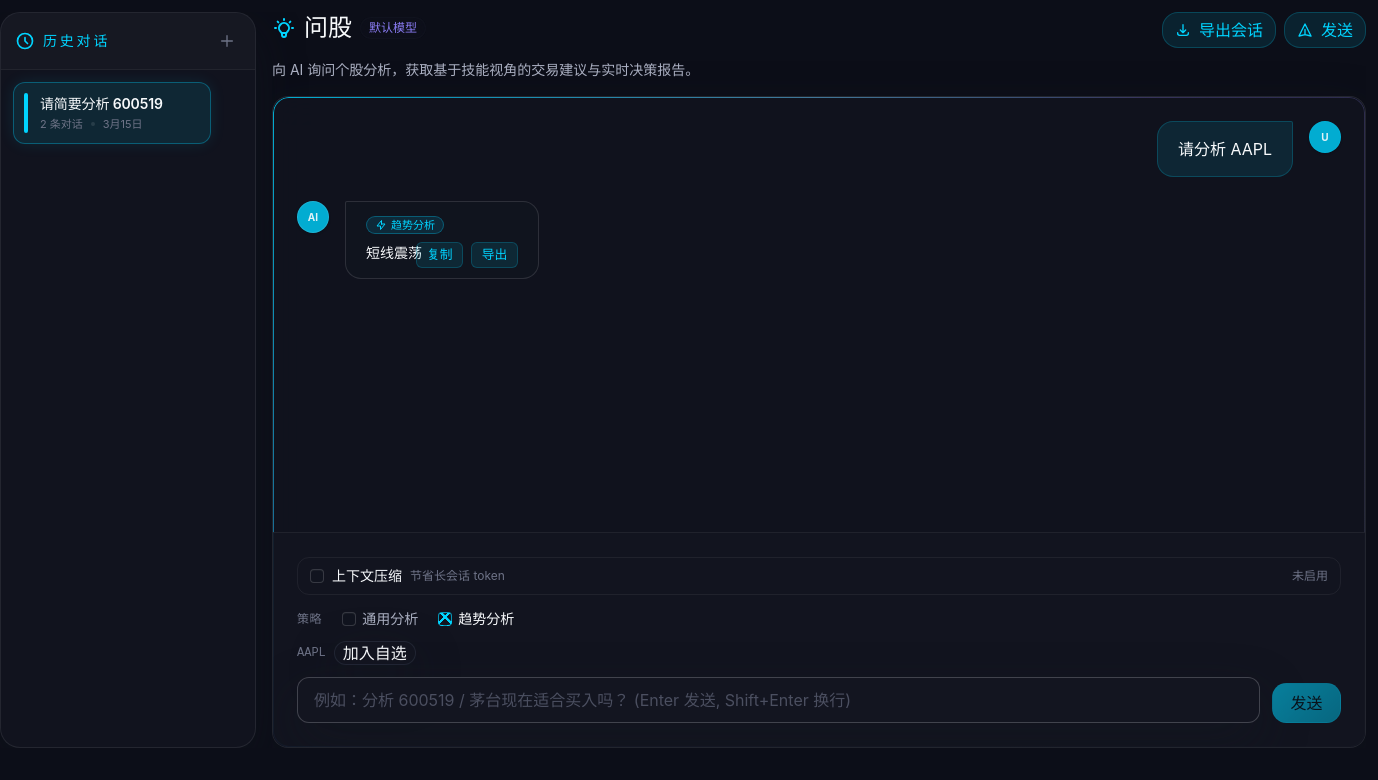
ChatPage › shows parsed error feedback when notification delivery fails
Click the button with aria-label "发送到已配置的通知机器人/邮箱".
click(1325, 30)  # box [1284,12,1366,48]
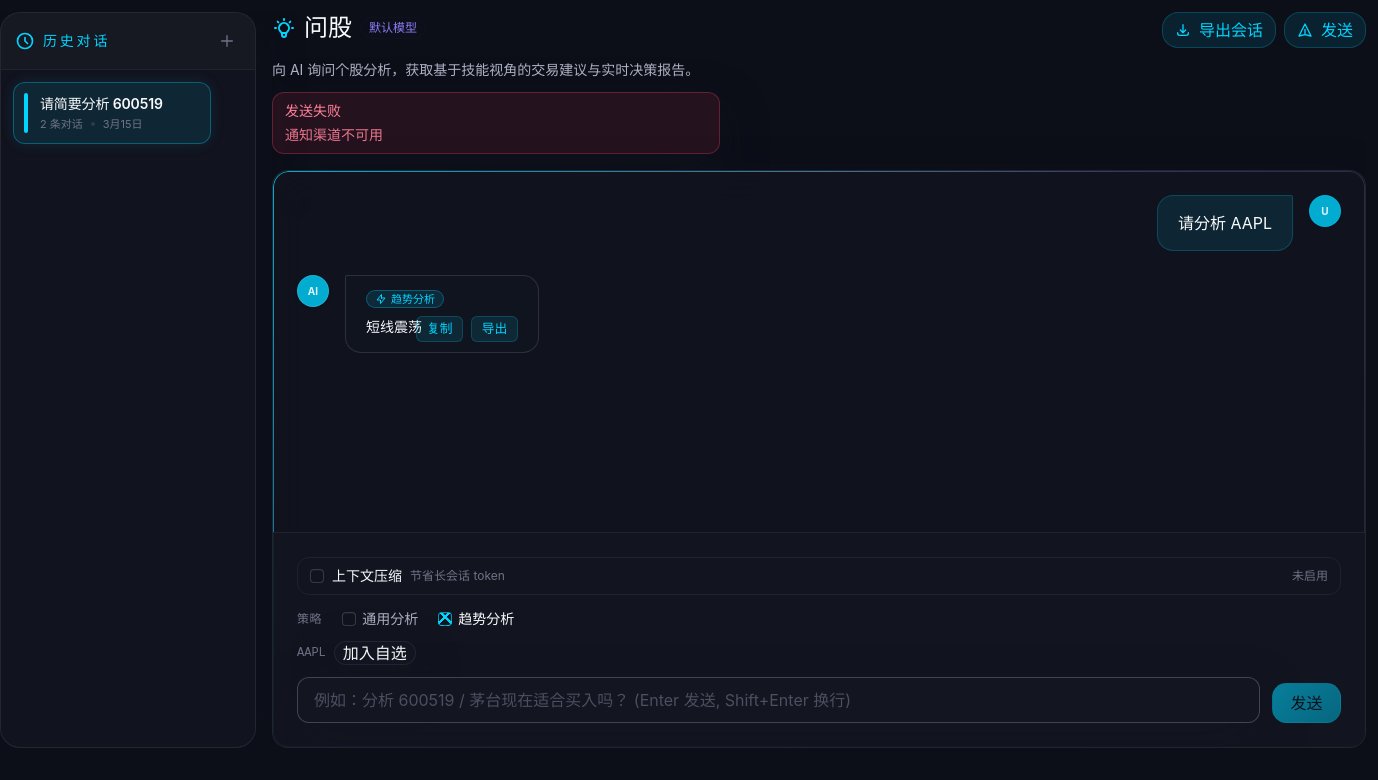
Result: the text "通知渠道不可用" is shown at [285,125,383,145]
